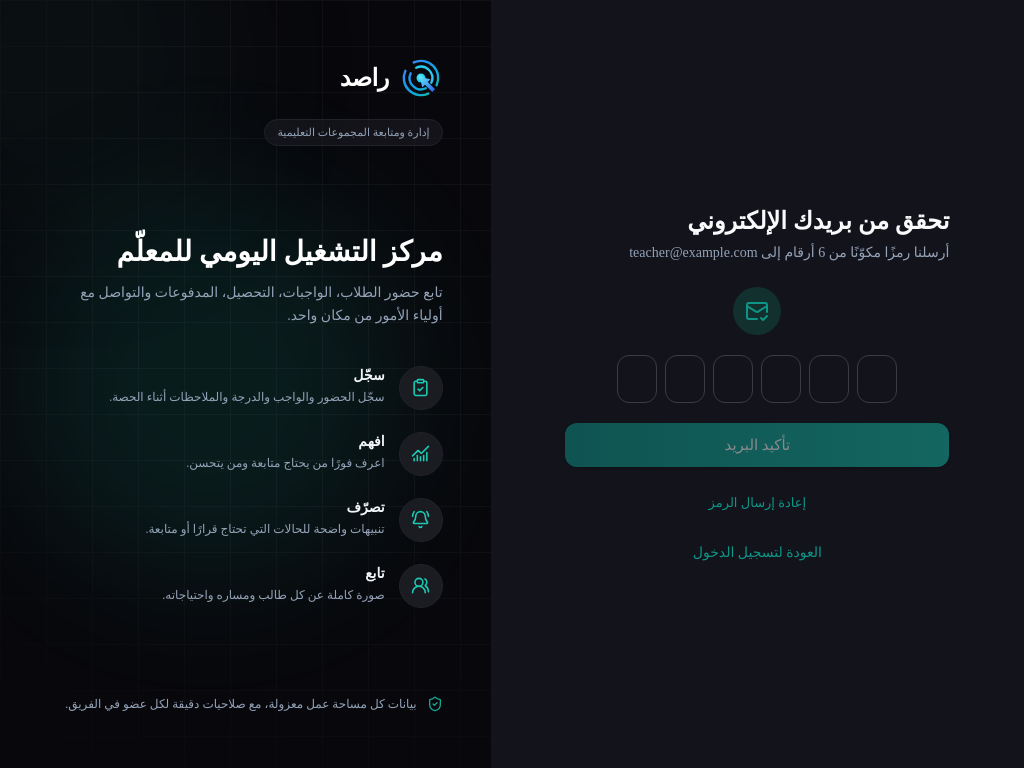
VerifyEmailPage › shows a distinct Arabic message for an expired code
Type "1" into the field named "رقم 1 من رمز التحقق" at (637, 379), box 617,355 -> 657,403
Type "1" into the field named "رقم 2 من رمز التحقق" at (685, 379), box 665,355 -> 705,403
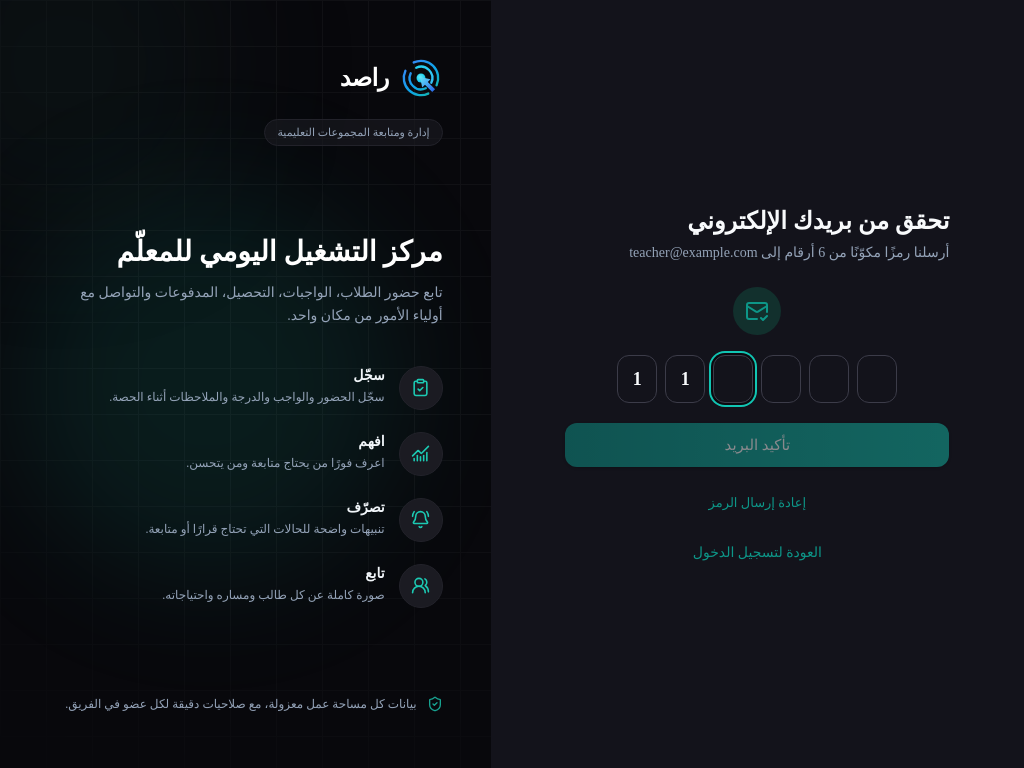
Type "1" into the field named "رقم 3 من رمز التحقق" at (733, 379), box 713,355 -> 753,403
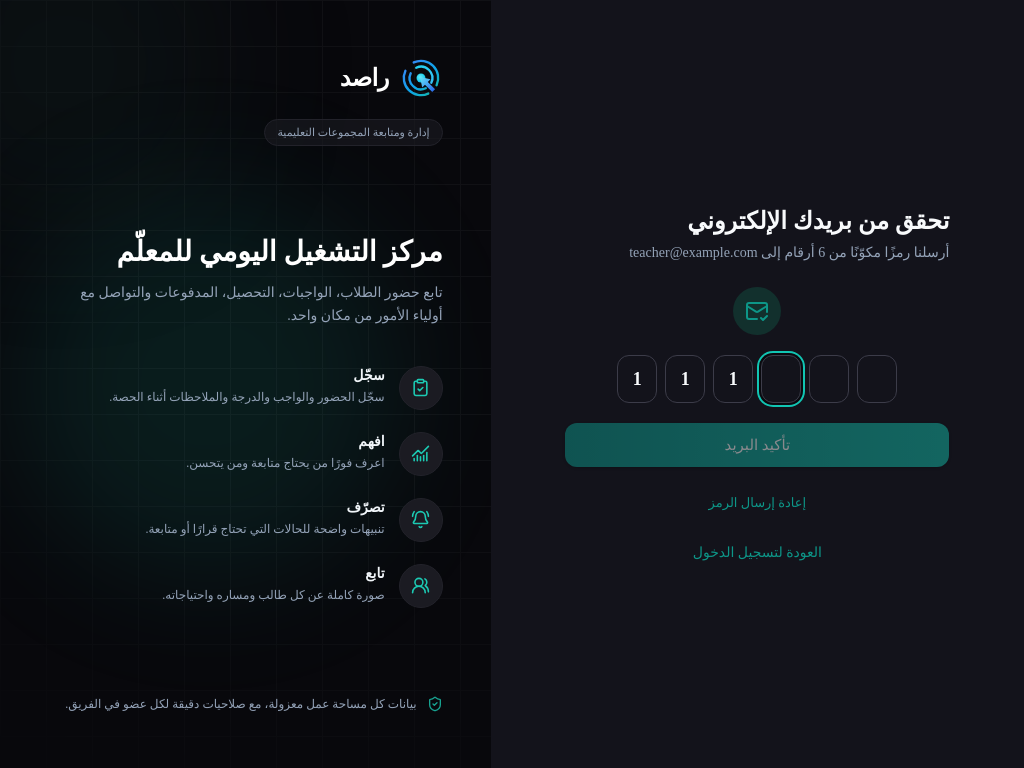
Type "1" into the field named "رقم 4 من رمز التحقق" at (781, 379), box 761,355 -> 801,403
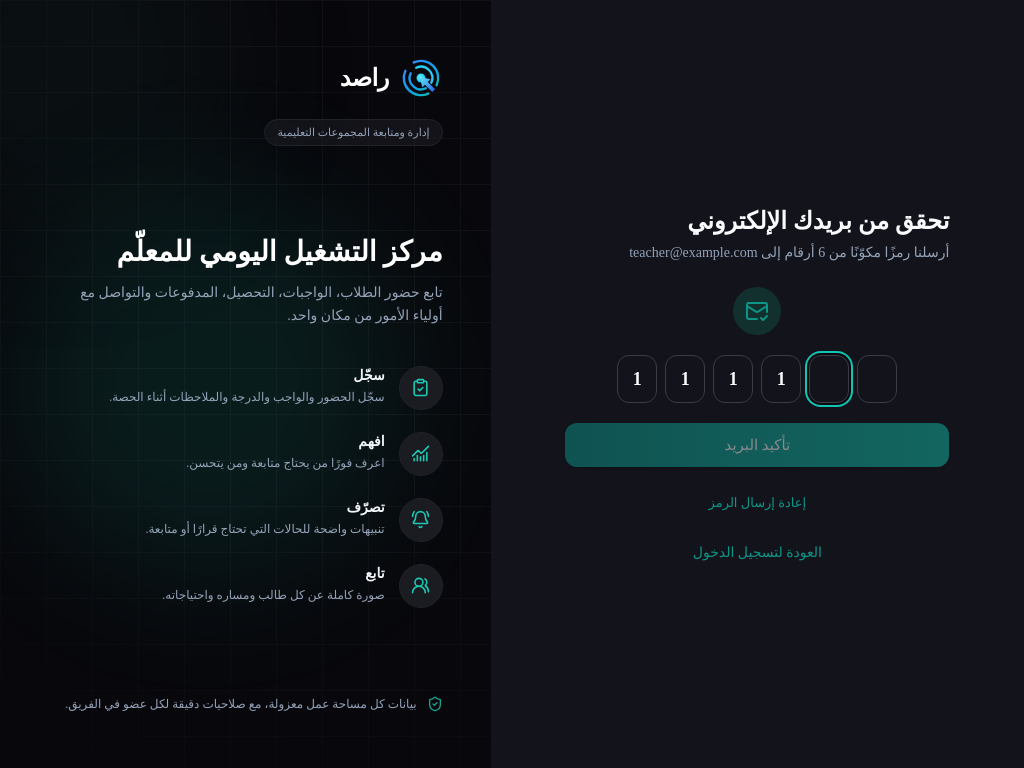
Type "1" into the field named "رقم 5 من رمز التحقق" at (829, 379), box 809,355 -> 849,403
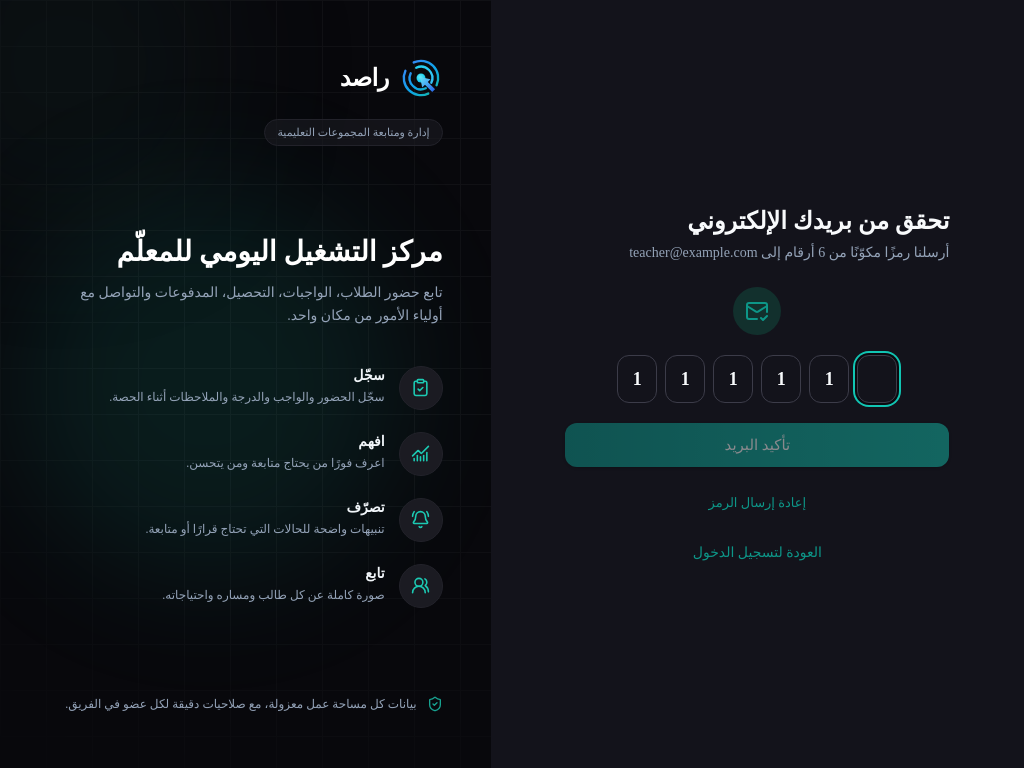
Type "1" into the field named "رقم 6 من رمز التحقق" at (877, 379), box 857,355 -> 897,403
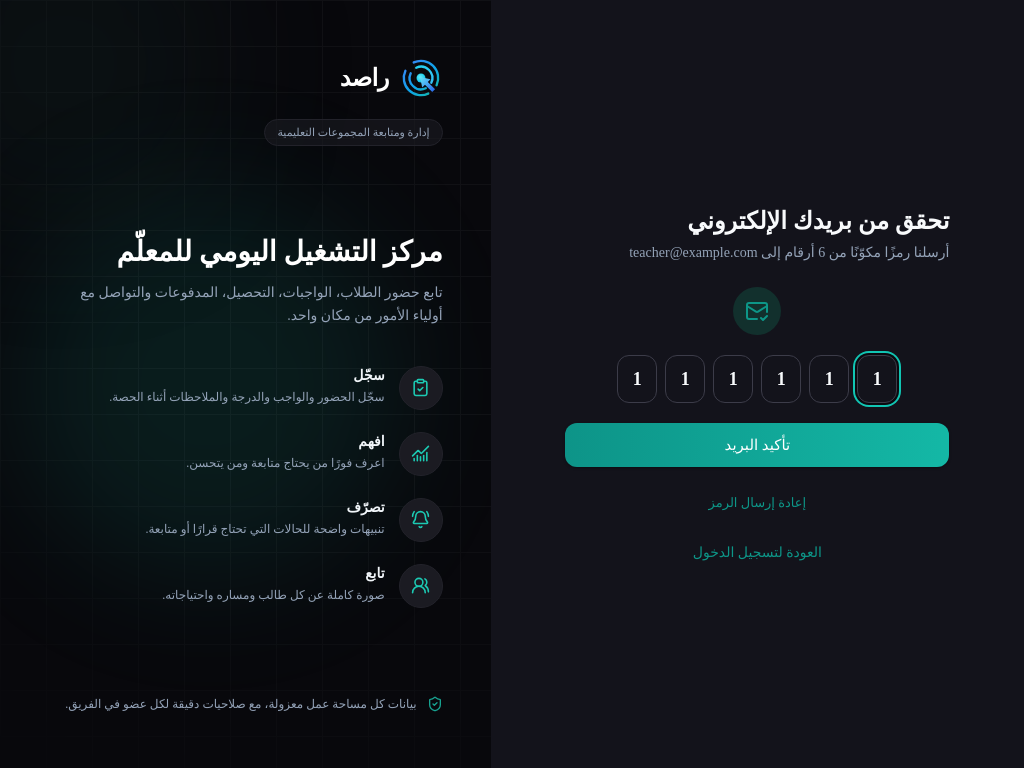
Click the button "تأكيد البريد" at (757, 445), box 565,423 -> 949,467
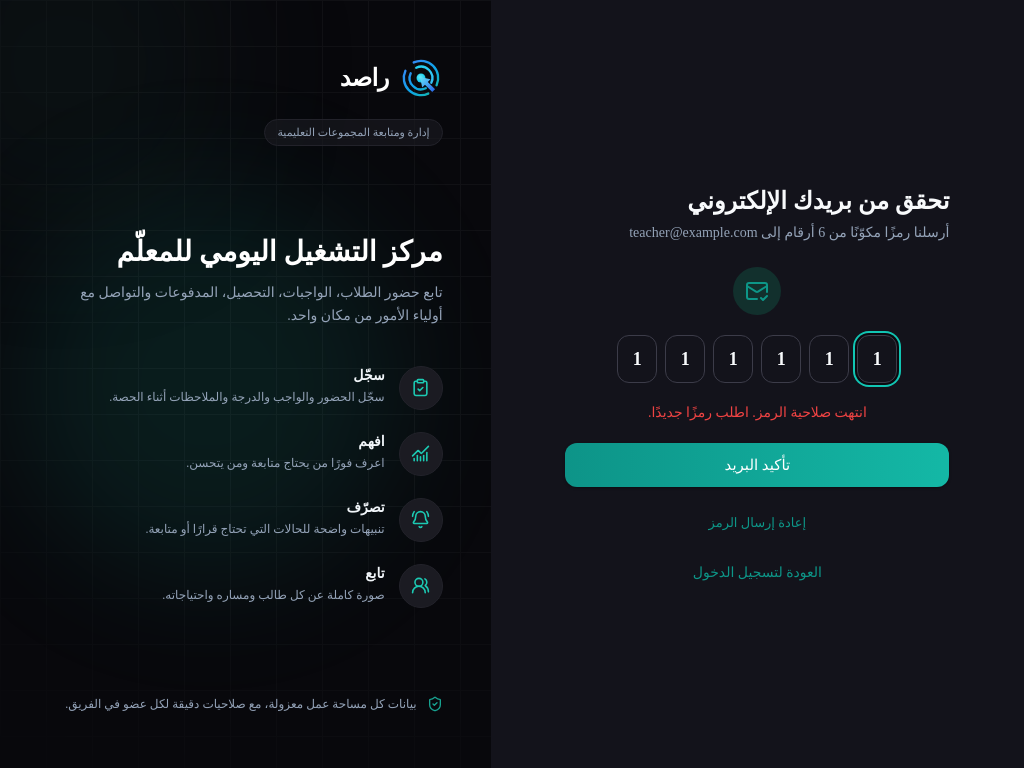
Expected: the text "انتهت صلاحية الرمز. اطلب رمزًا جديدًا." is shown, 648,403 -> 867,423
